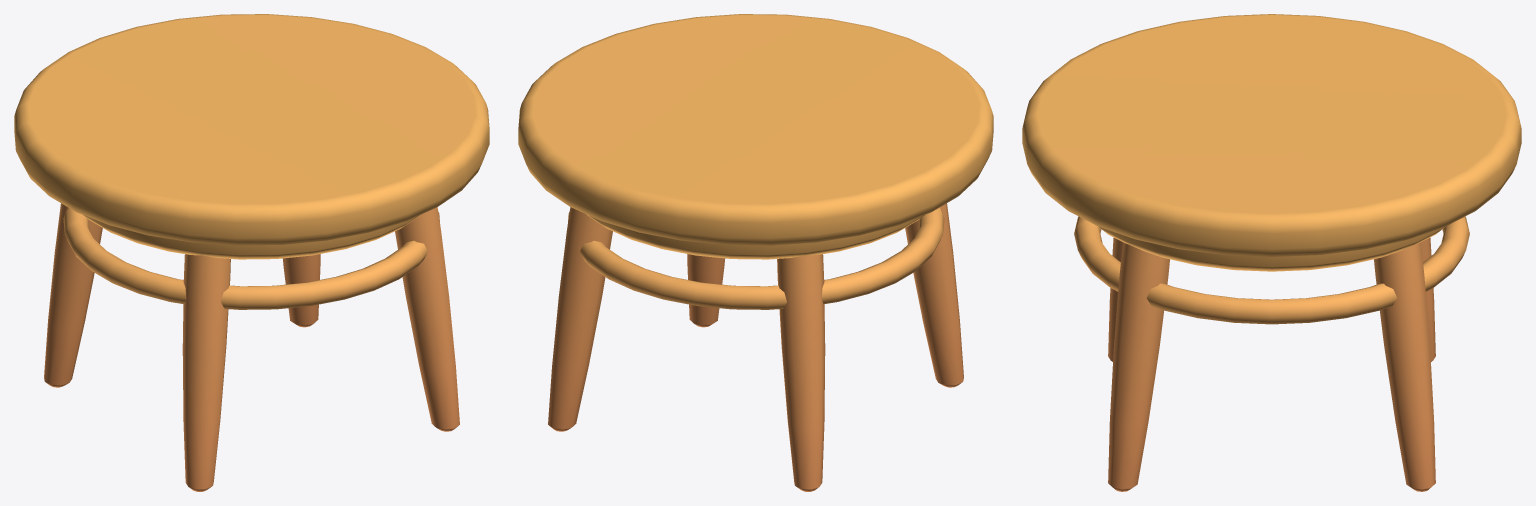
File: Kitchen_Table_08.glb
The picture shows the model from 3 angles, left to right: view 1: azimuth 30°, elevation 25°; view 2: azimuth 150°, elevation 25°; view 3: azimuth 270°, elevation 25°; orthographic projection. The views are drawn at different scales.
Parts seen in each view (by area): view 1: Kitchen_Table_08; view 2: Kitchen_Table_08; view 3: Kitchen_Table_08.
Boxes of the visible parts, bbox=[...] form: Kitchen_Table_08: bbox=[14, 14, 489, 491]; Kitchen_Table_08: bbox=[518, 14, 993, 491]; Kitchen_Table_08: bbox=[1022, 14, 1521, 491].
Size of the model in its own units: 1.06 by 0.726 by 1.06.
1 material, 1 textured.
